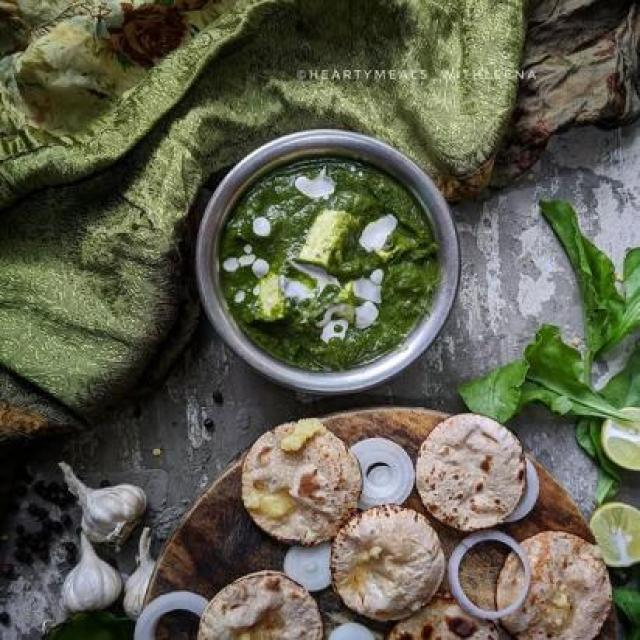palakpaneer: (190, 128, 468, 389)
